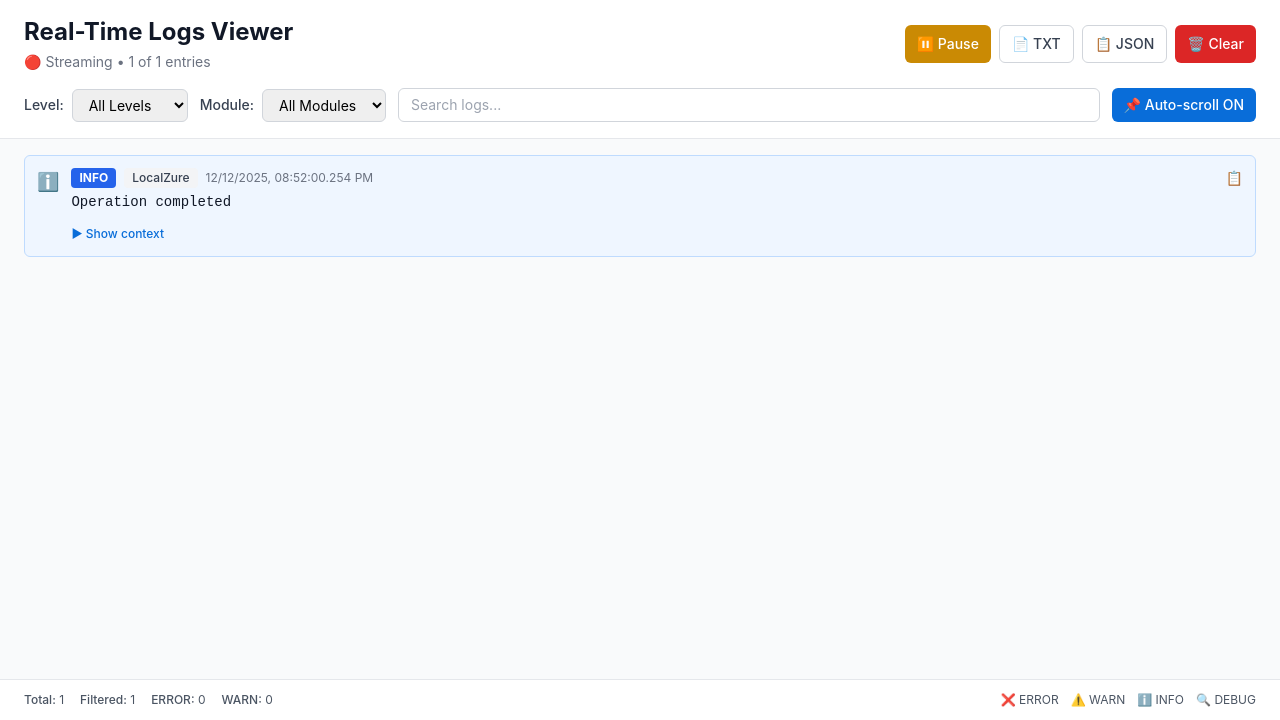
it: Enhanced Logs Component - DESKTOP-003 › AC2: Display log entry details › displays context when present
Expected: the text "\"duration\"" is not shown
# Click to expand
Click the button "▶ Show context". click: point(118, 234)
box: top-left (72, 226), bottom-right (164, 242)
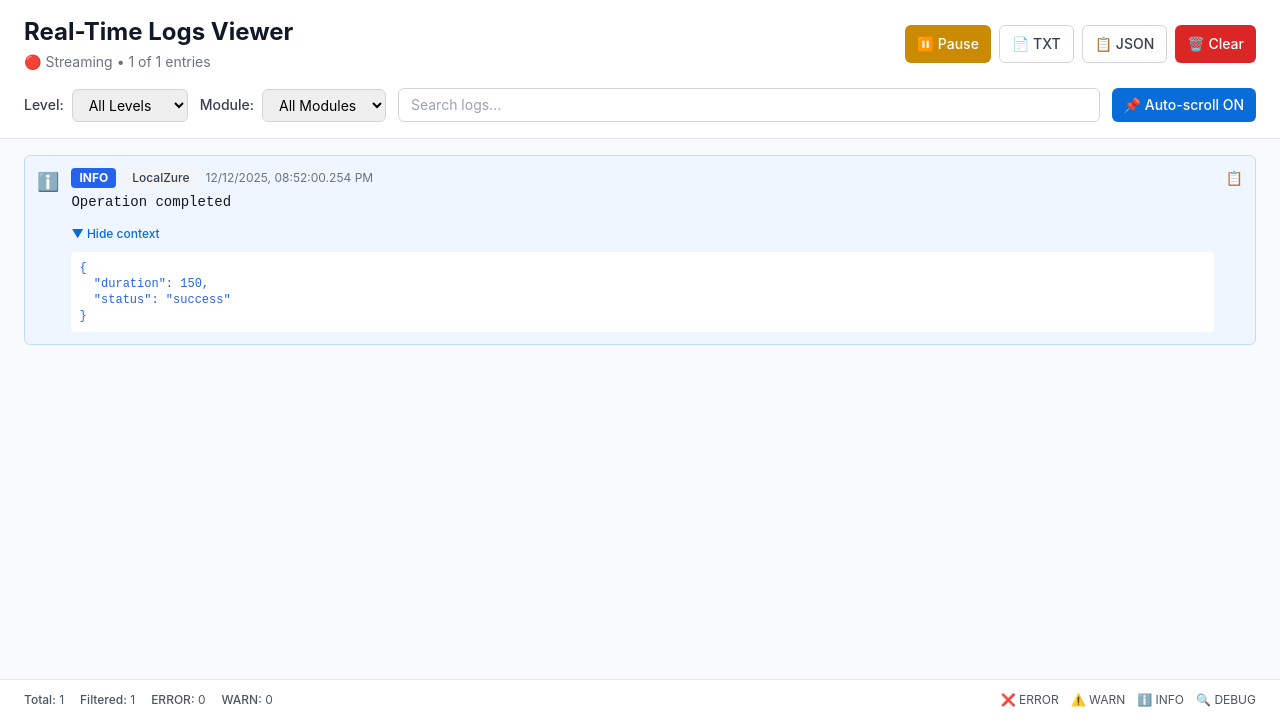
Expected: the text "{ \"duration\": 150, \"status\": \"success\" }" is shown, top-left (72, 252), bottom-right (1214, 332)
